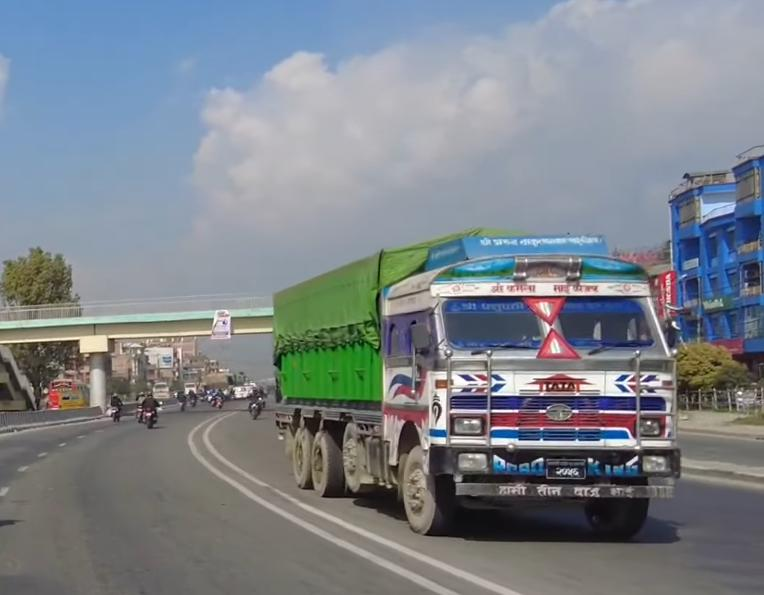bus: (45, 378, 90, 410)
truck: (271, 227, 684, 538)
